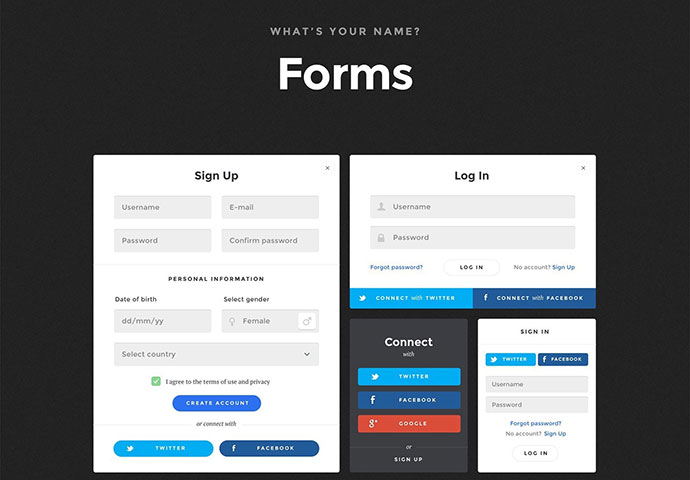_form_: (76, 160, 344, 462), (337, 146, 605, 448)
button: (348, 287, 473, 309), (473, 287, 597, 309), (356, 391, 461, 410), (357, 367, 461, 386), (356, 415, 459, 433), (114, 440, 215, 457), (220, 440, 318, 457), (174, 394, 261, 412), (537, 352, 588, 367), (485, 352, 536, 366)
checkbox: (150, 375, 161, 387)
field: (370, 226, 577, 250), (369, 195, 575, 218), (113, 195, 213, 219), (218, 229, 318, 253), (111, 229, 211, 253), (219, 196, 319, 220), (217, 309, 317, 333), (110, 310, 210, 334), (486, 375, 590, 393), (486, 398, 589, 414)
select: (113, 342, 319, 366)
